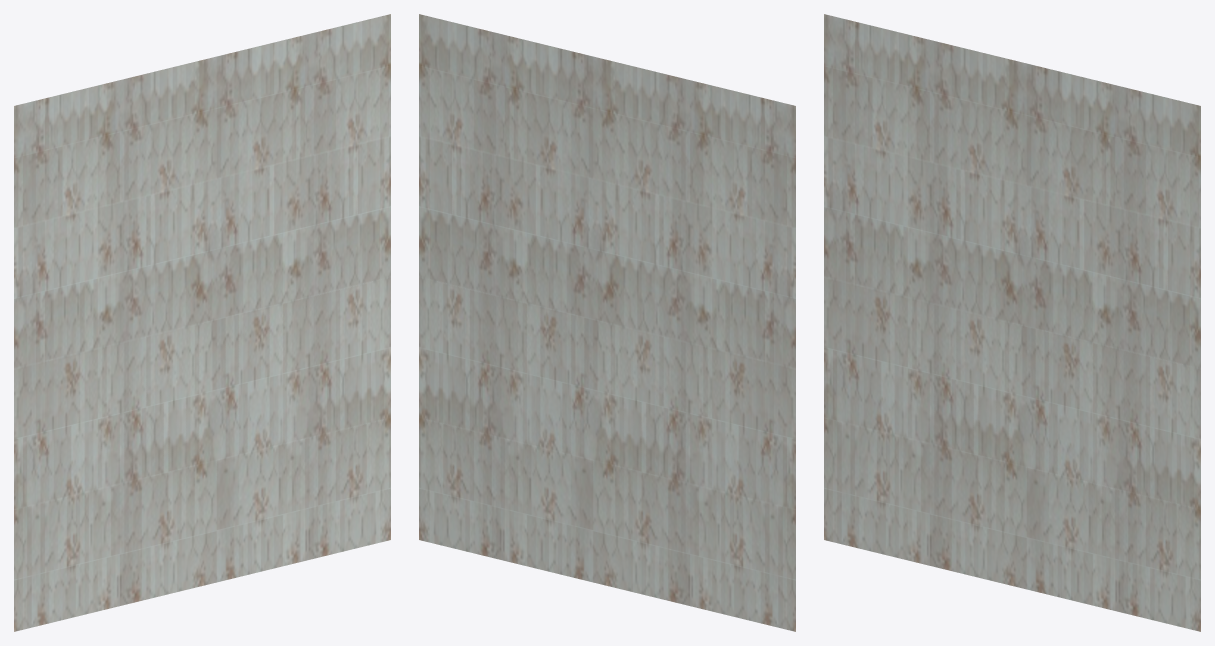
The model's file is wall._3x3_kabinet.glb.
3 renders of one model, left to right at view 1: azimuth 30°, elevation 25°; view 2: azimuth 150°, elevation 25°; view 3: azimuth 330°, elevation 25°, orthographic.
Visible parts, largest first — view 1: Plane; view 2: Plane; view 3: Plane.
Part boxes in pixels (box(x1,y1,x2,y2)): Plane: box(14, 14, 390, 631); Plane: box(419, 14, 795, 631); Plane: box(824, 14, 1200, 631).
Bounding box in the file's own units: 3 × 4 × 8.74e-08.
Materials: 1 (1 with a texture image).
